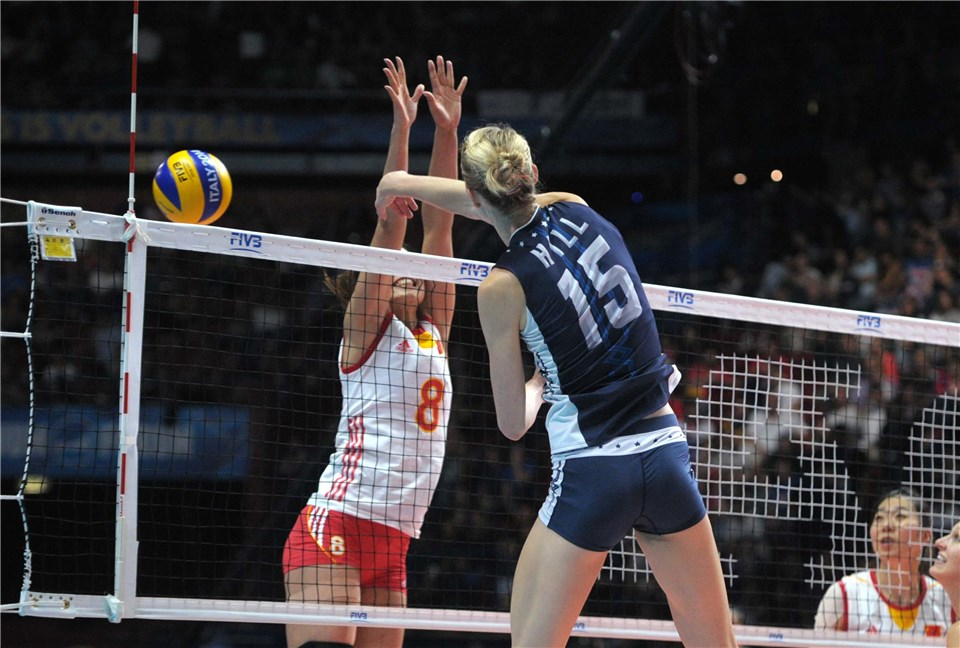volleyball: (150, 147, 234, 226)
